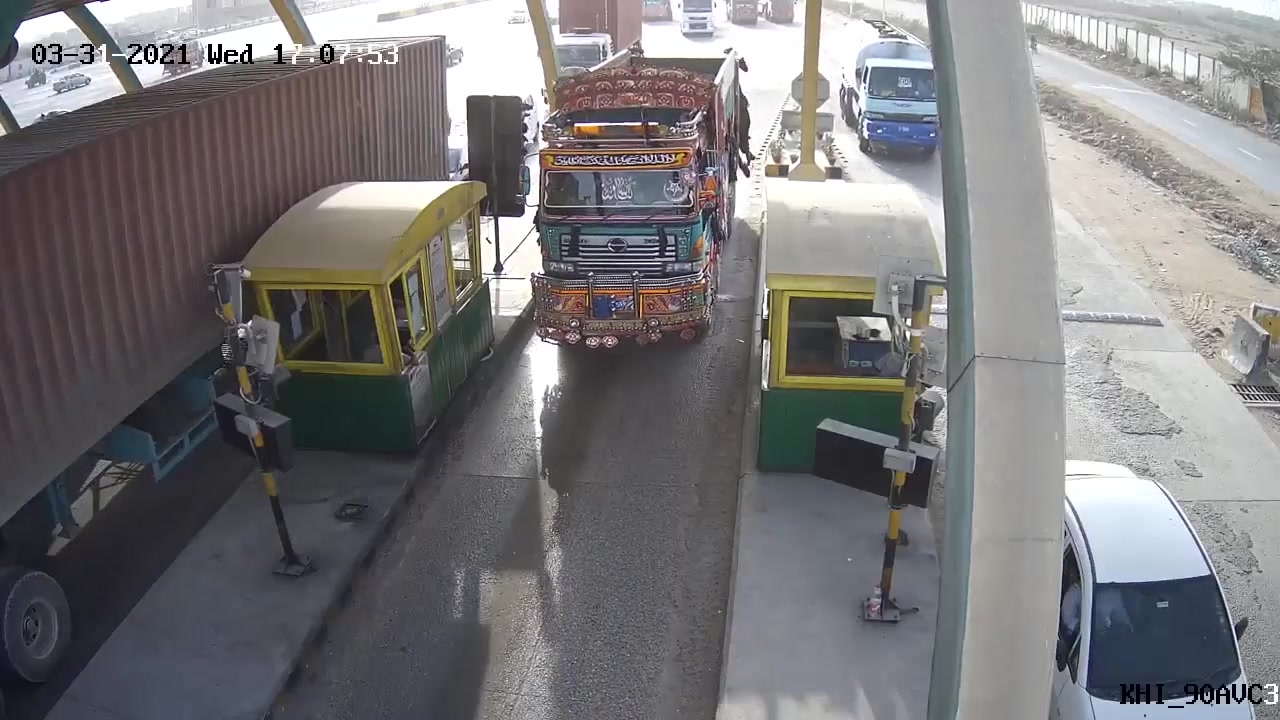F5: (527, 51, 743, 344)
